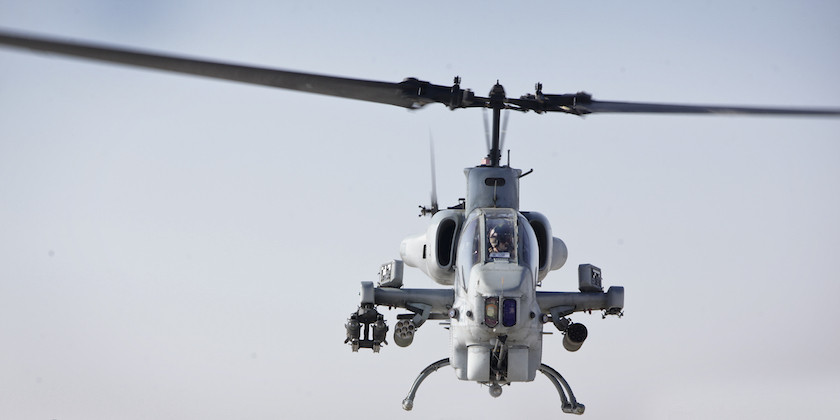MilitaryHelicopter: (338, 29, 645, 420)
